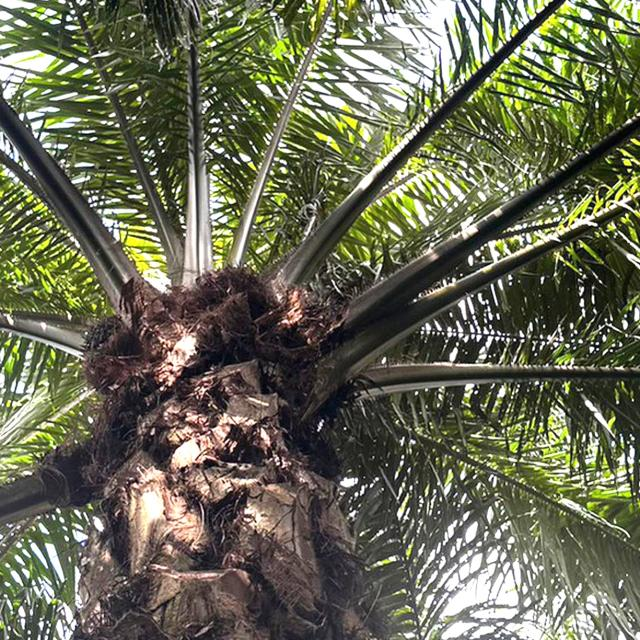unripe: (76, 306, 138, 367)
